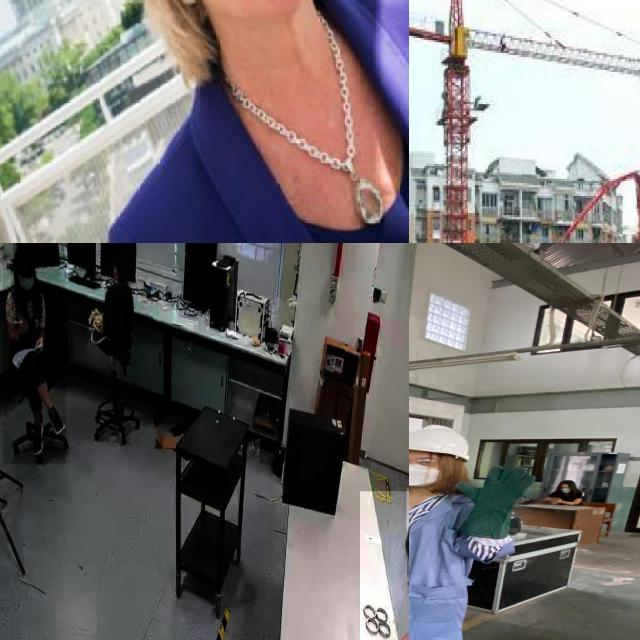face_mask: (409, 453, 445, 487), (11, 259, 37, 301)
glasses: (409, 454, 443, 468)
hand_glove: (449, 464, 544, 512)
hand_noglove: (35, 332, 43, 354)
head_helmet: (409, 424, 474, 462)
head_nohelmet: (13, 243, 35, 262)
person: (54, 0, 409, 243), (409, 421, 541, 640), (3, 243, 66, 464)
shoes: (45, 398, 67, 439), (29, 408, 47, 458)
